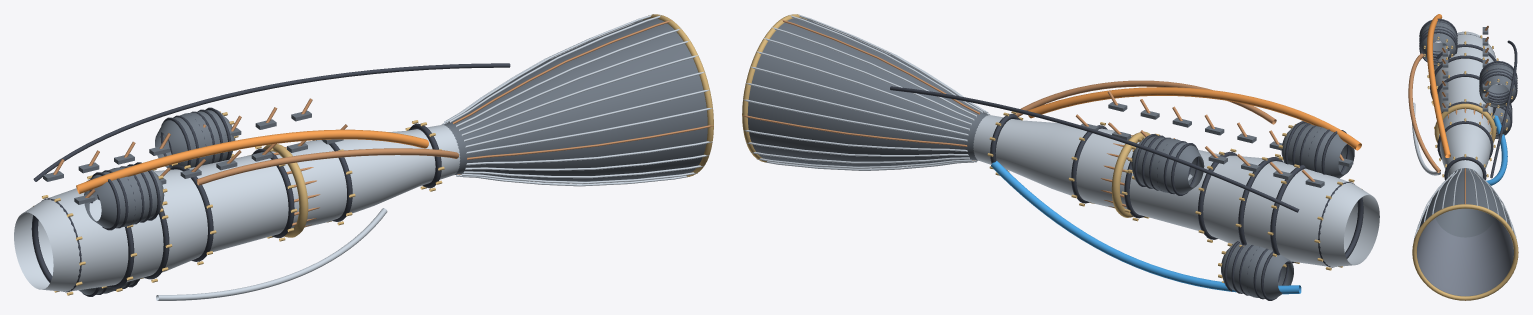
File: rocket-engine.gltf
3 renders of one model, left to right at view 1: azimuth 30°, elevation 25°; view 2: azimuth 150°, elevation 25°; view 3: azimuth 270°, elevation 25°, orthographic. The views are drawn at different scales.
Visible parts, largest first — view 1: bell_shell, turbine_core, cooling_rib (×2), chamber, turbopump, flange_ring, CH4_supply, sensor_harness, pump_fins, warm_return, mounting_tab, hydraulic_line (+4 smaller); view 2: bell_shell, turbine_core, cooling_rib (×2), chamber, turbopump, flange_ring, CH4_supply, pump_fins, LOX_supply, sensor_harness, mounting_tab, warm_return (+4 smaller); view 3: bell_inner, bell_shell, turbine_core, chamber, turbopump, exit_lip, pump_fins, flange_ring, CH4_supply, cooling_rib, warm_return, mounting_tab (+7 smaller).
Boxes of the visible parts, x1,y1,x2,y2 form: bell_shell: [442, 18, 707, 181]; turbine_core: [14, 155, 288, 291]; cooling_rib (×2): [441, 14, 713, 186]; chamber: [271, 125, 460, 228]; turbopump: [79, 110, 235, 294]; flange_ring: [31, 123, 441, 292]; CH4_supply: [76, 129, 428, 193]; sensor_harness: [33, 63, 510, 181]; pump_fins: [82, 107, 231, 296]; warm_return: [196, 148, 458, 185]; mounting_tab: [43, 110, 343, 204]; hydraulic_line: [156, 208, 387, 300]; bell_shell: [747, 17, 988, 166]; turbine_core: [1129, 150, 1379, 266]; cooling_rib (×2): [742, 14, 989, 170]; chamber: [973, 115, 1139, 209]; turbopump: [1131, 123, 1354, 299]; flange_ring: [990, 114, 1363, 267]; CH4_supply: [1028, 87, 1361, 150]; pump_fins: [1134, 121, 1349, 300]; LOX_supply: [991, 161, 1301, 294]; sensor_harness: [890, 86, 1299, 212]; mounting_tab: [1081, 102, 1353, 187]; warm_return: [1013, 80, 1276, 124]; bell_inner: [1417, 218, 1513, 295]; bell_shell: [1417, 168, 1513, 296]; turbine_core: [1434, 31, 1497, 117]; chamber: [1439, 109, 1491, 177]; turbopump: [1419, 20, 1517, 138]; exit_lip: [1412, 204, 1518, 300]; pump_fins: [1419, 18, 1517, 138]; flange_ring: [1430, 34, 1500, 180]; CH4_supply: [1427, 14, 1450, 157]; cooling_rib: [1413, 168, 1517, 296]; warm_return: [1408, 53, 1440, 172]; mounting_tab: [1442, 27, 1488, 111].
Size of the model in its own units: 54.15 by 13.5 by 12.68.
